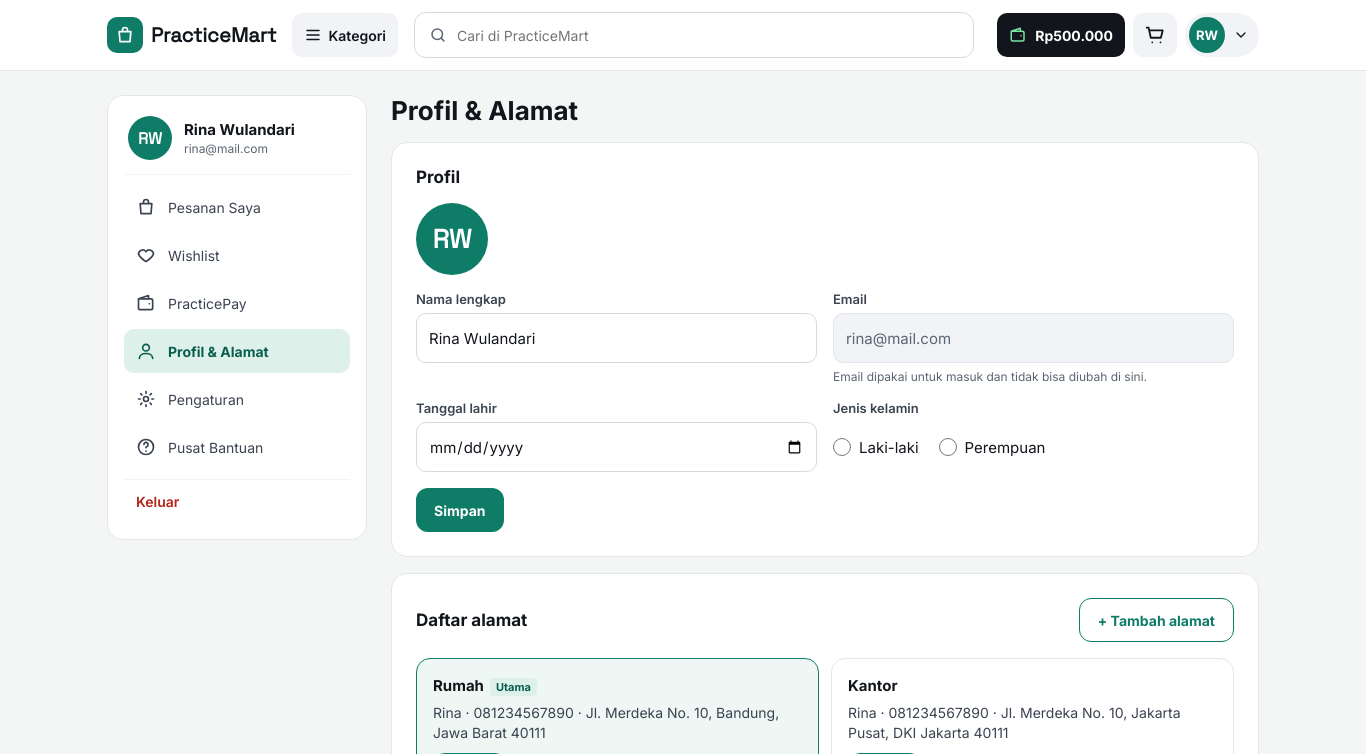
Test: Profil (FR-ACC-02) › ubah nama, tanggal lahir, jenis kelamin → tersimpan di akun + nama tampilan
This screenshot has width=1366, height=754.
Expected: the field with test id "acc_input_email" is disabled, [833, 313, 1234, 363]
Expected: the field with test id "acc_input_email" holds "rina@mail.com", [833, 313, 1234, 363]
Clear the field with test id "acc_input_name" at (616, 338), box [416, 313, 817, 363]
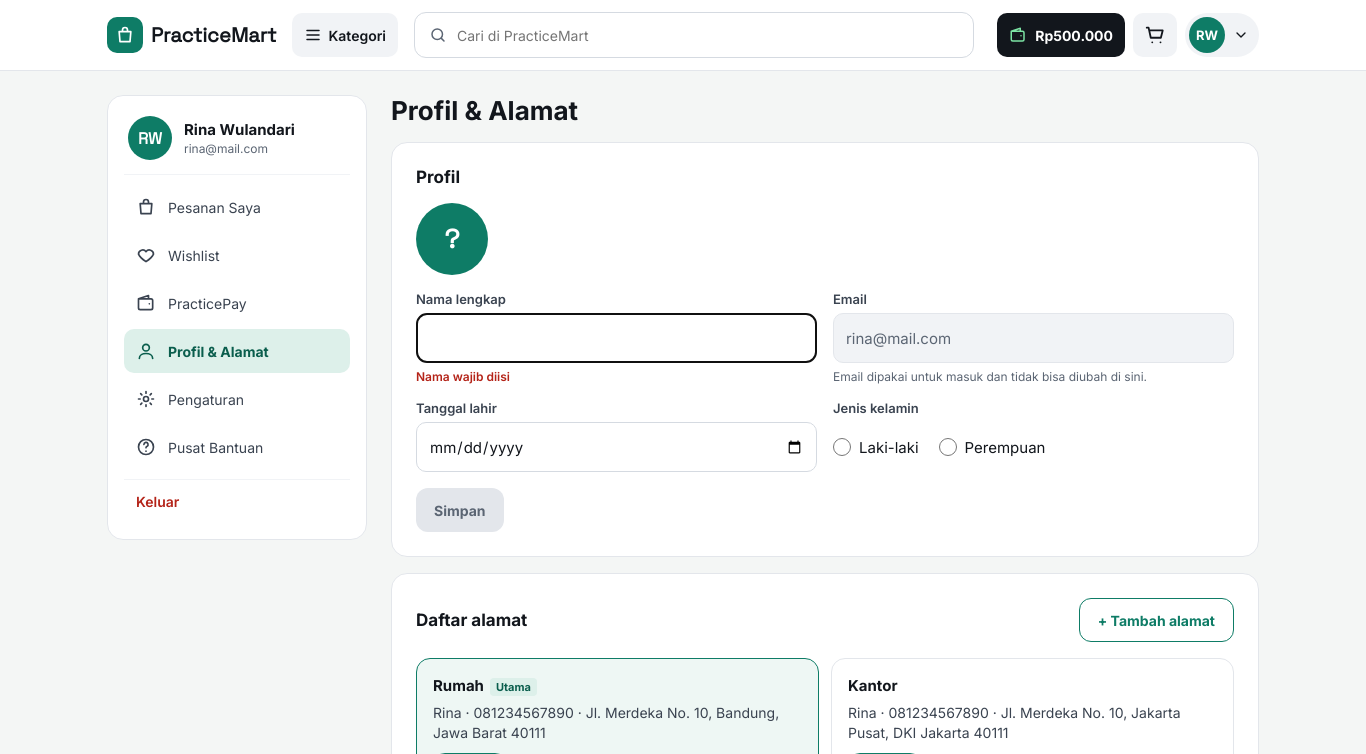
Result: the message with test id "acc_txt_name_error" reads "Nama wajib diisi" at [416, 369, 510, 384]
Result: the button with test id "acc_btn_save_profile" is disabled at [416, 488, 504, 532]
Type "Rina W" into the field with test id "acc_input_name" at (616, 338), box [416, 313, 817, 363]
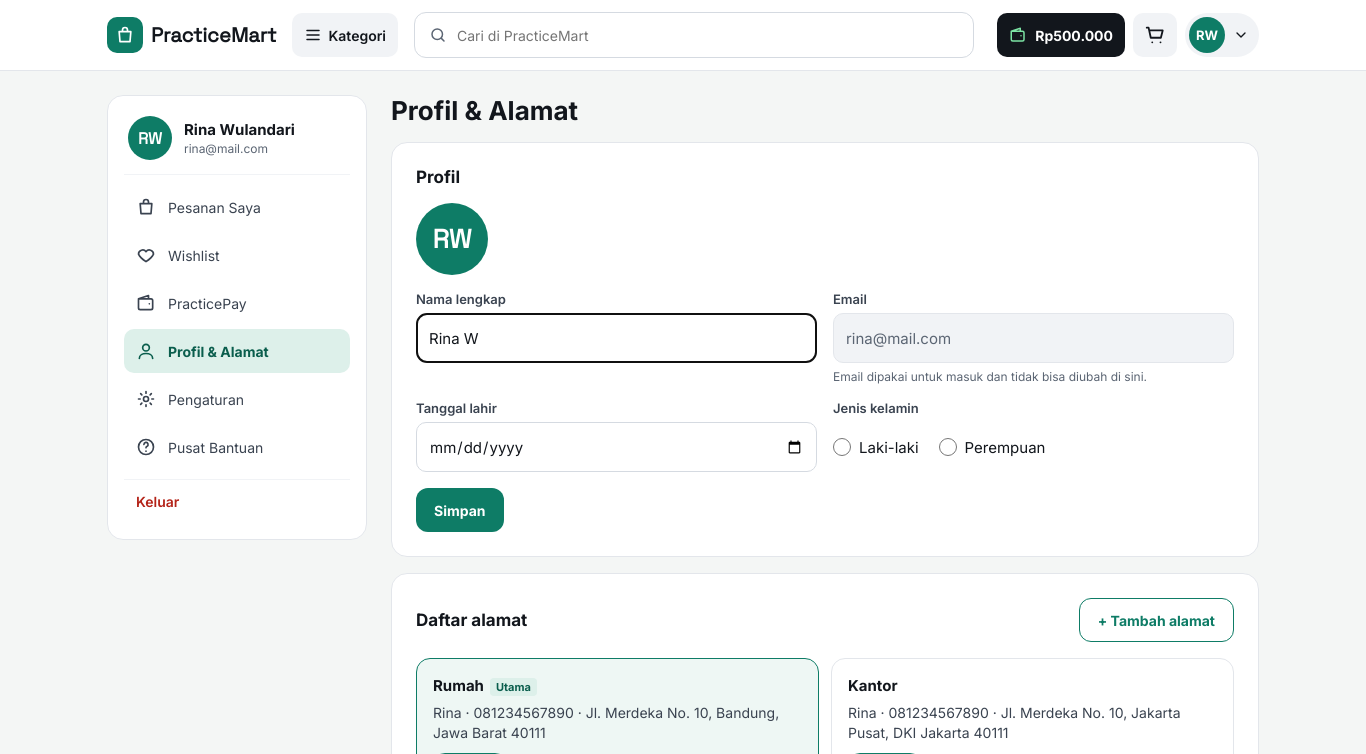
Type "1998-08-17" into the date field with test id "acc_input_birthdate" at (616, 447), box [416, 422, 817, 472]
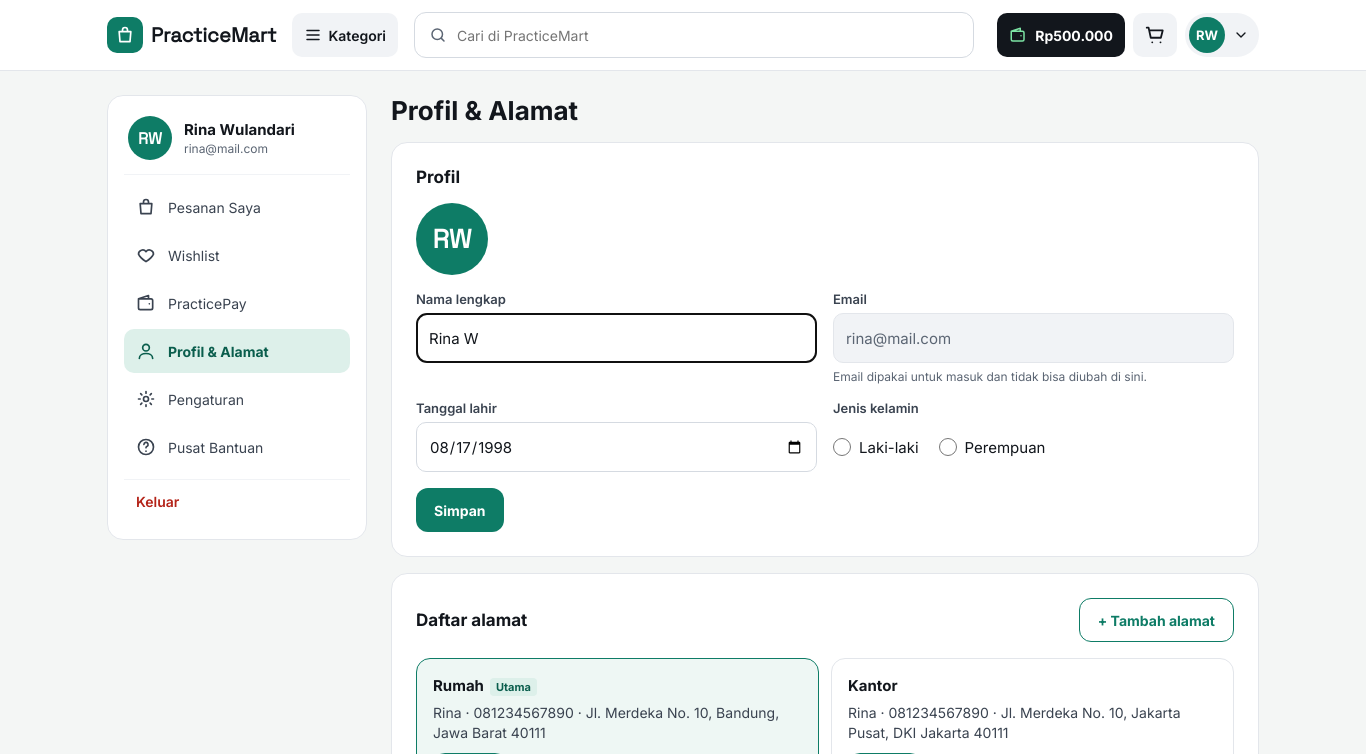
Click the radio button with test id "acc_rdo_gender_female" at (948, 447), box [939, 438, 957, 456]
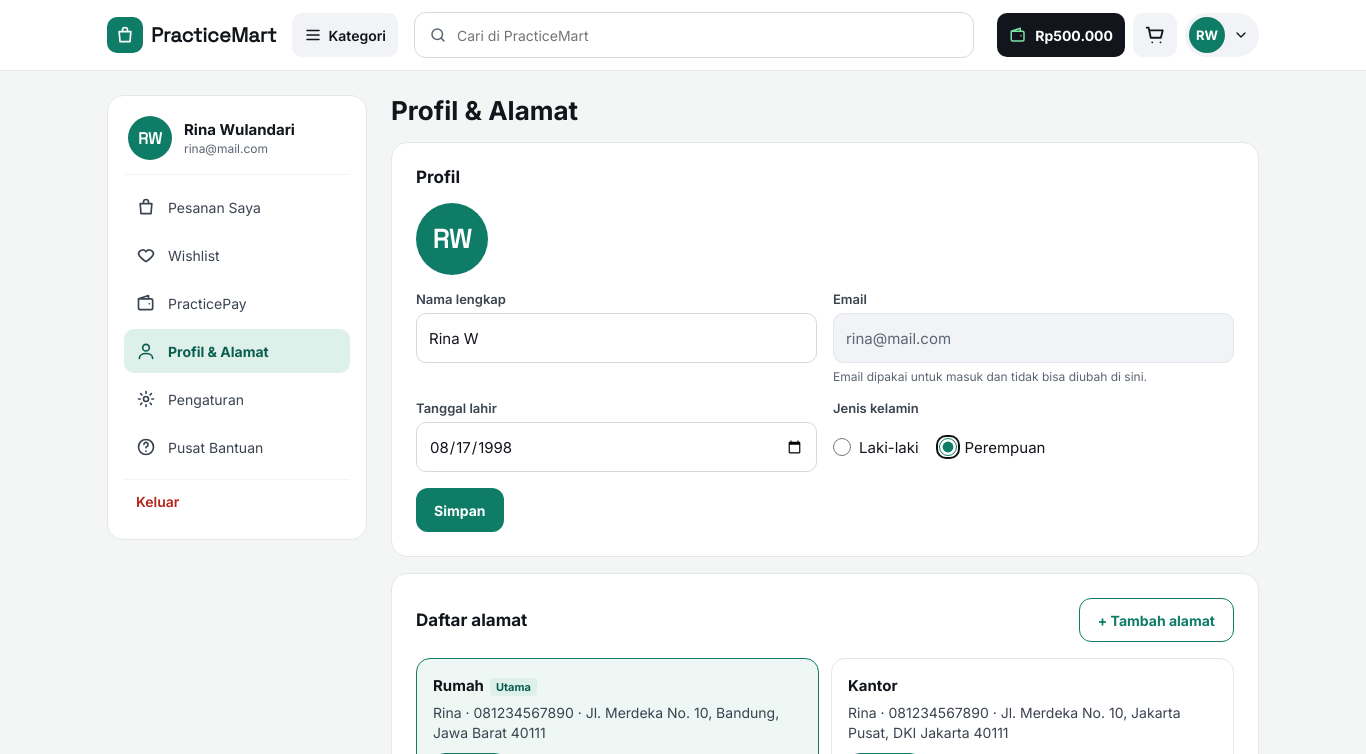
Click the button with test id "acc_btn_save_profile" at (460, 510), box [416, 488, 504, 532]
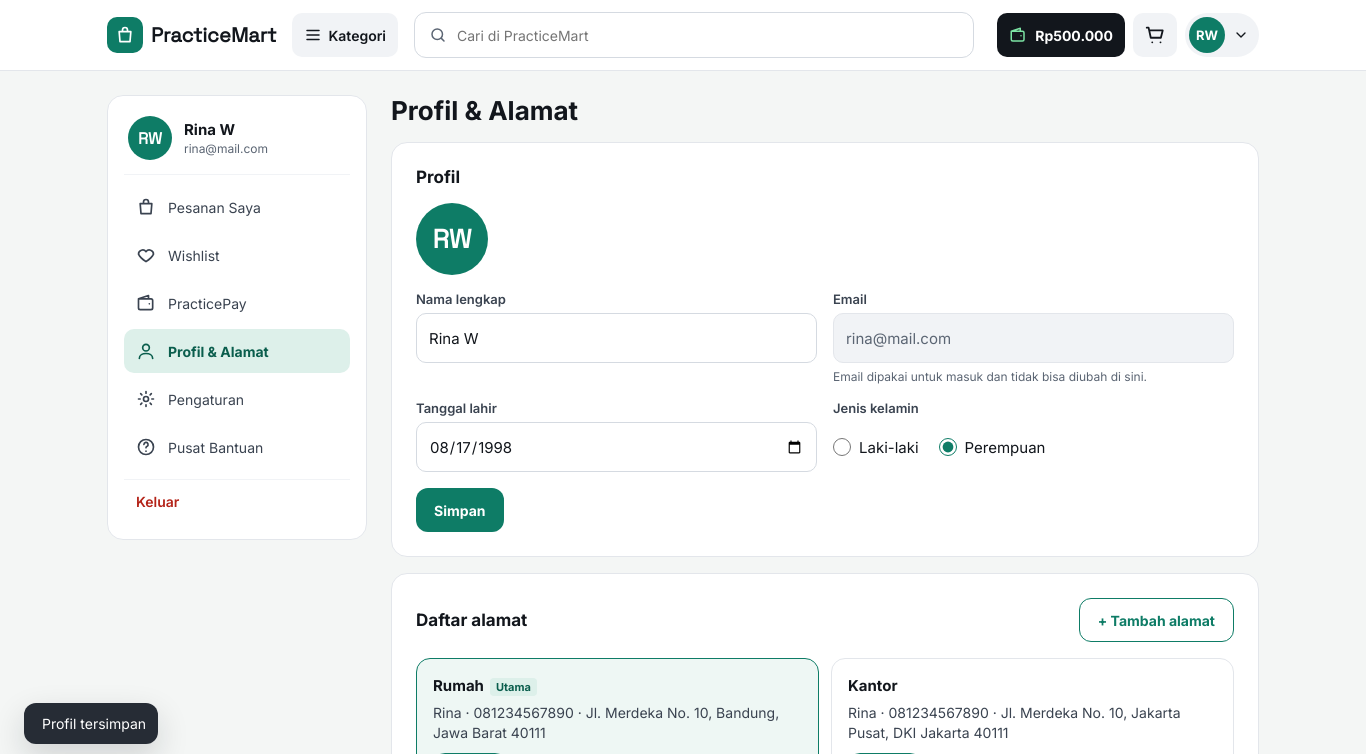
Expected: the text with test id "acc_txt_nav_name" reads "Rina W", [184, 120, 235, 139]
Result: the element with test id "acc_txt_profile_saved" reads "Profil tersimpan" at [42, 715, 146, 732]
